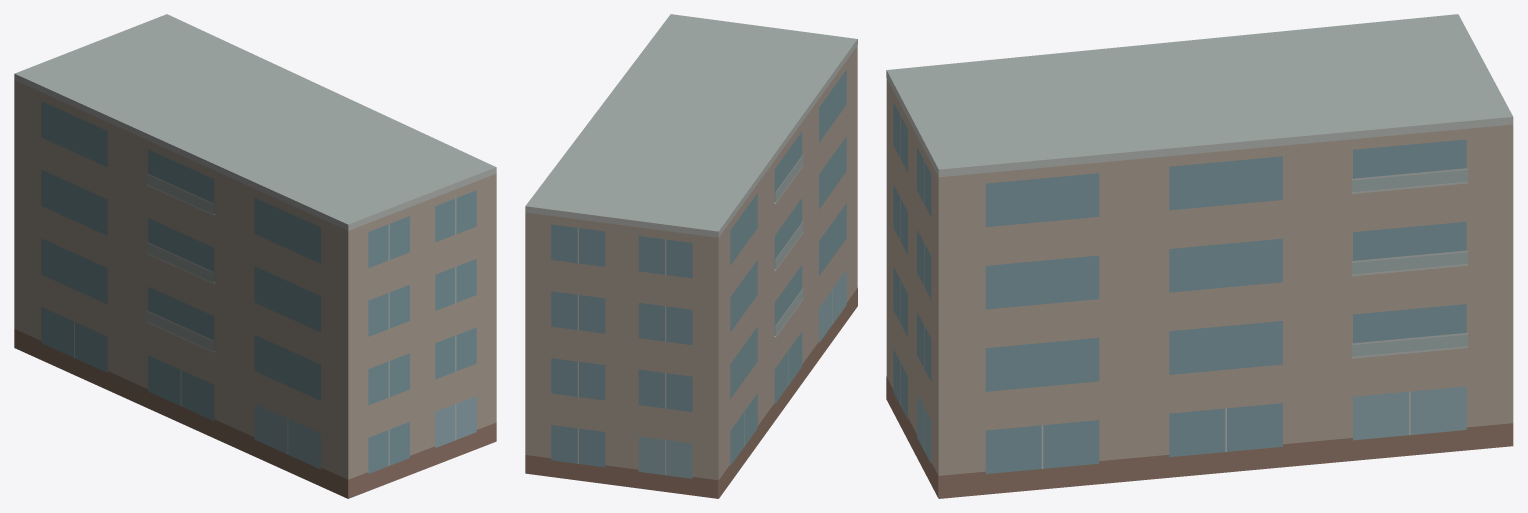
Rendered from survey-upis-32806879.glb.
The picture shows the model from 3 angles, left to right: view 1: azimuth 30°, elevation 25°; view 2: azimuth 150°, elevation 25°; view 3: azimuth 270°, elevation 25°; orthographic projection. The views are drawn at different scales.
Parts seen in each view (by area): view 1: survey-upis-32806879.tmp; view 2: survey-upis-32806879.tmp; view 3: survey-upis-32806879.tmp.
Boxes of the visible parts, bbox=[...] form: survey-upis-32806879.tmp: bbox=[14, 14, 496, 498]; survey-upis-32806879.tmp: bbox=[525, 14, 857, 498]; survey-upis-32806879.tmp: bbox=[886, 14, 1513, 498].
Bounding box in the file's own units: 10.66 × 10.5 × 18.13.
